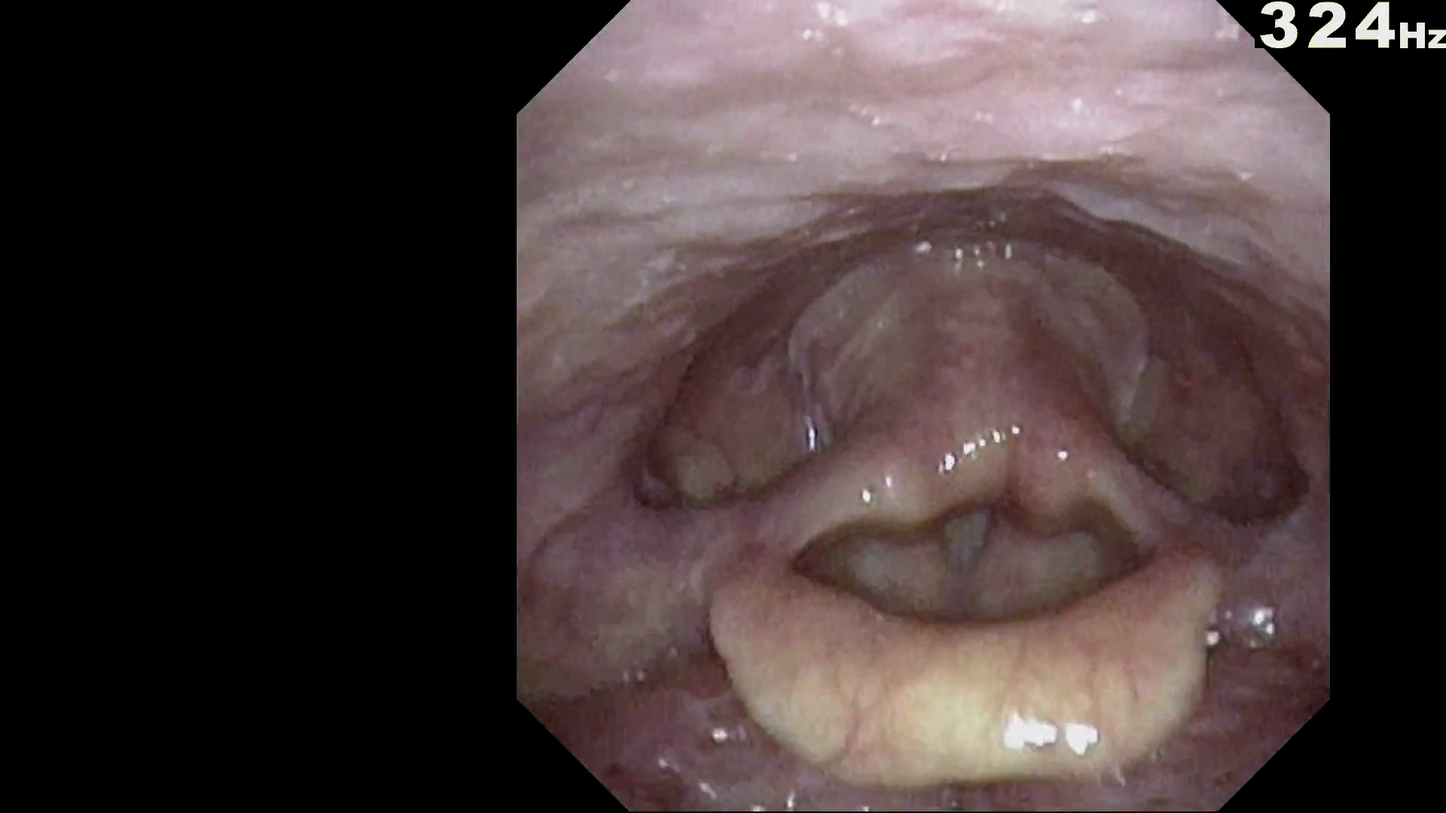epiglottis: (689, 516, 1254, 768)
trachea: (926, 487, 1009, 572)
